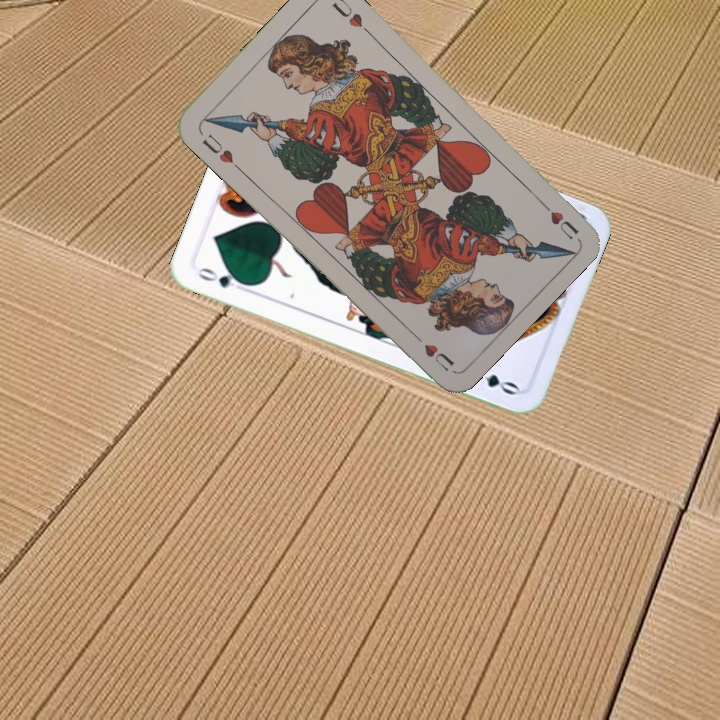GO: (194, 263, 251, 291)
HU: (534, 194, 581, 243), (198, 129, 243, 173)
